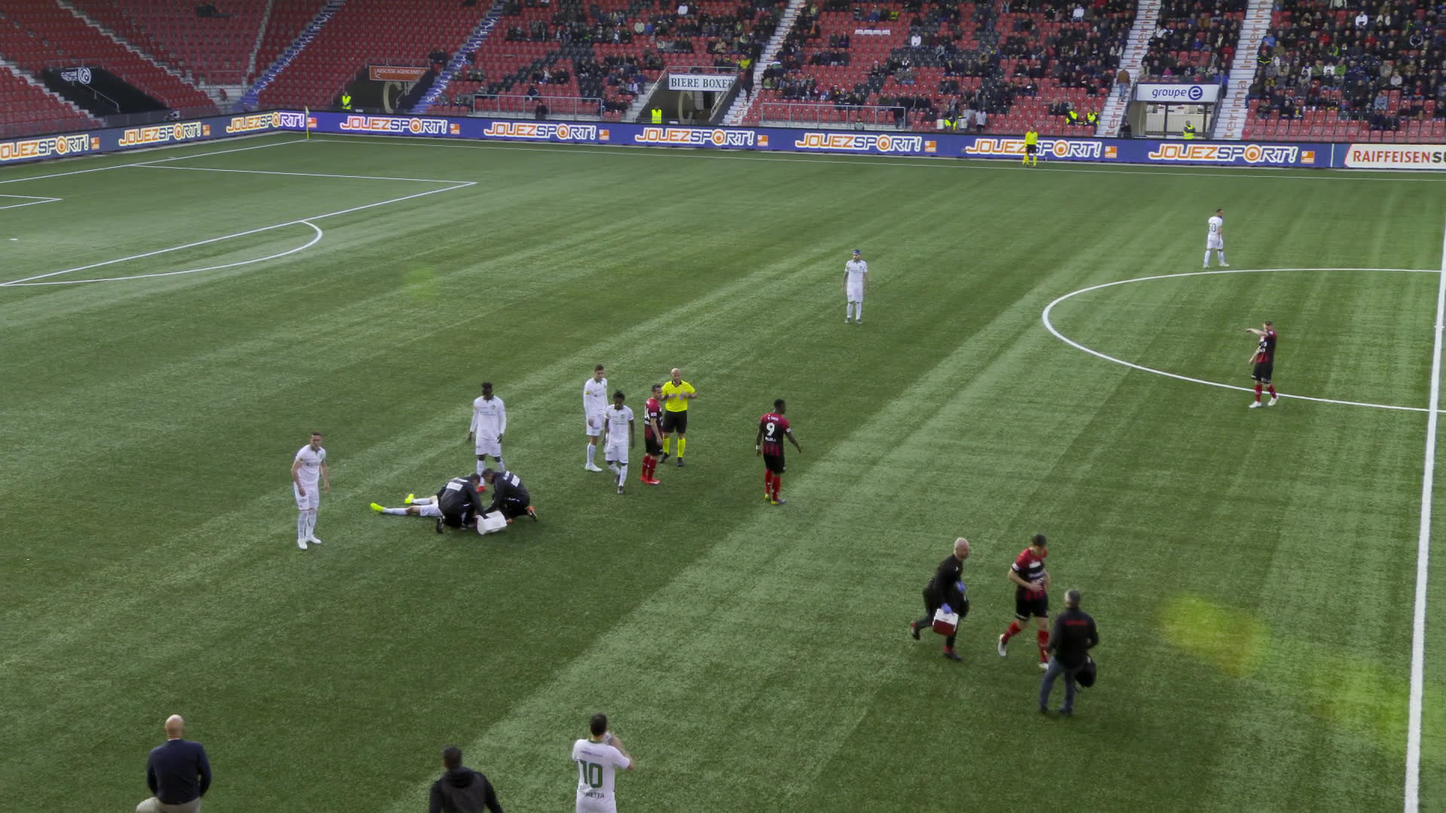ball: (1042, 592, 1103, 719), (912, 537, 967, 656), (437, 472, 490, 534), (481, 467, 538, 524)
player: (1002, 534, 1052, 667), (571, 712, 635, 812), (756, 399, 801, 505), (291, 431, 330, 550), (469, 382, 509, 492), (603, 389, 637, 494), (1246, 321, 1278, 408), (584, 365, 609, 472), (641, 383, 664, 485), (842, 249, 868, 324), (371, 494, 445, 516), (1204, 209, 1230, 268)
referee: (659, 368, 697, 467), (1025, 126, 1039, 169)
